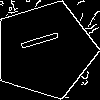I: (19, 25, 70, 52)
